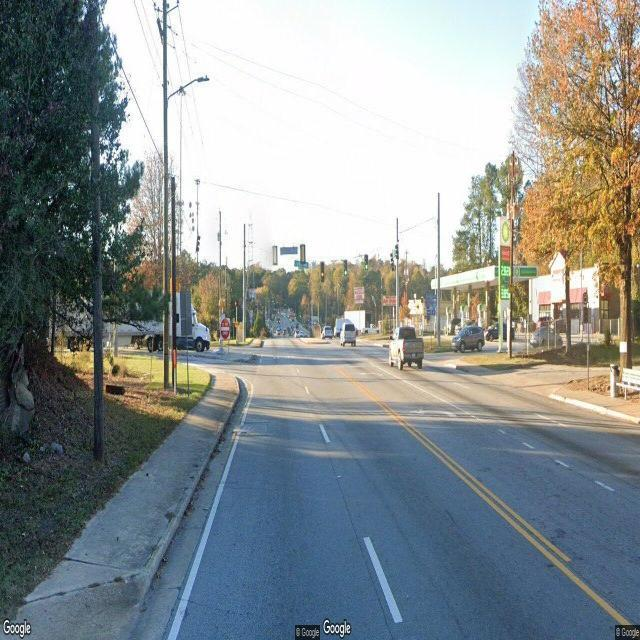seating: (616, 368, 640, 402)
trash_can: (610, 364, 616, 397)
